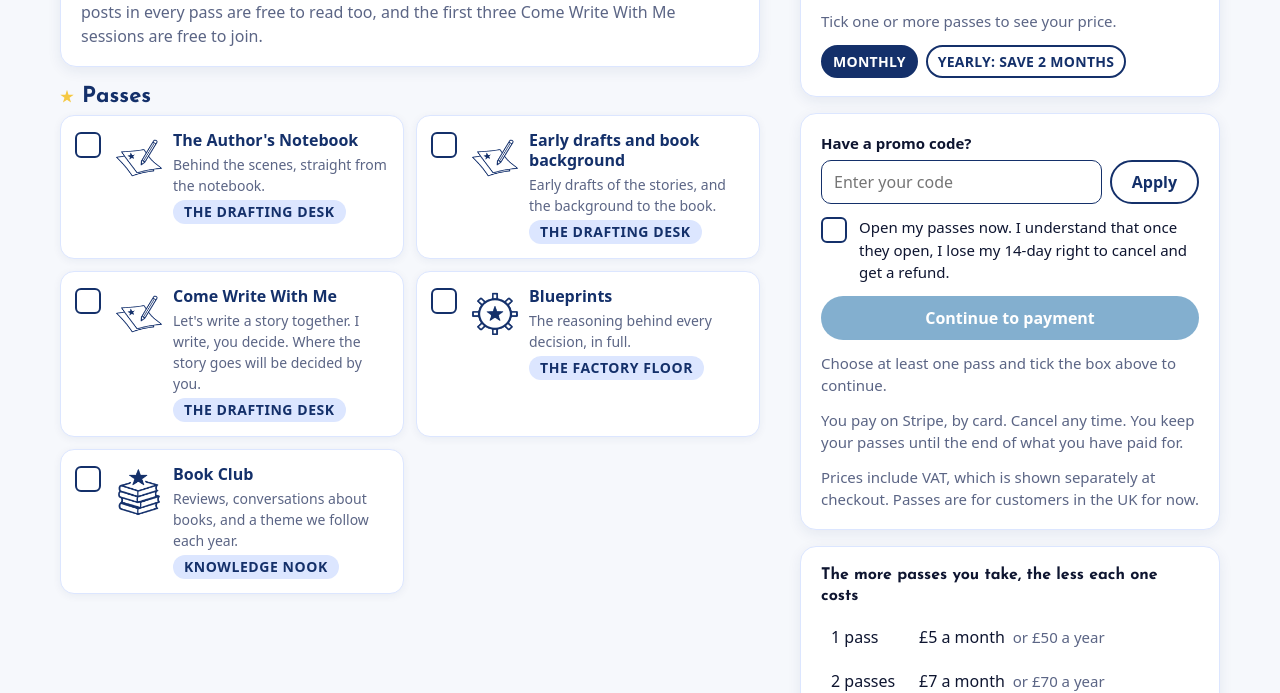
Test: the price box › shows plain prices, with no offer, when the launch offer is switched off
The image size is (1280, 693).
(page scrolled)
Click the checkbox labelled "Blueprints" at {"x": 588, "y": 354}, box [416,271,760,437]
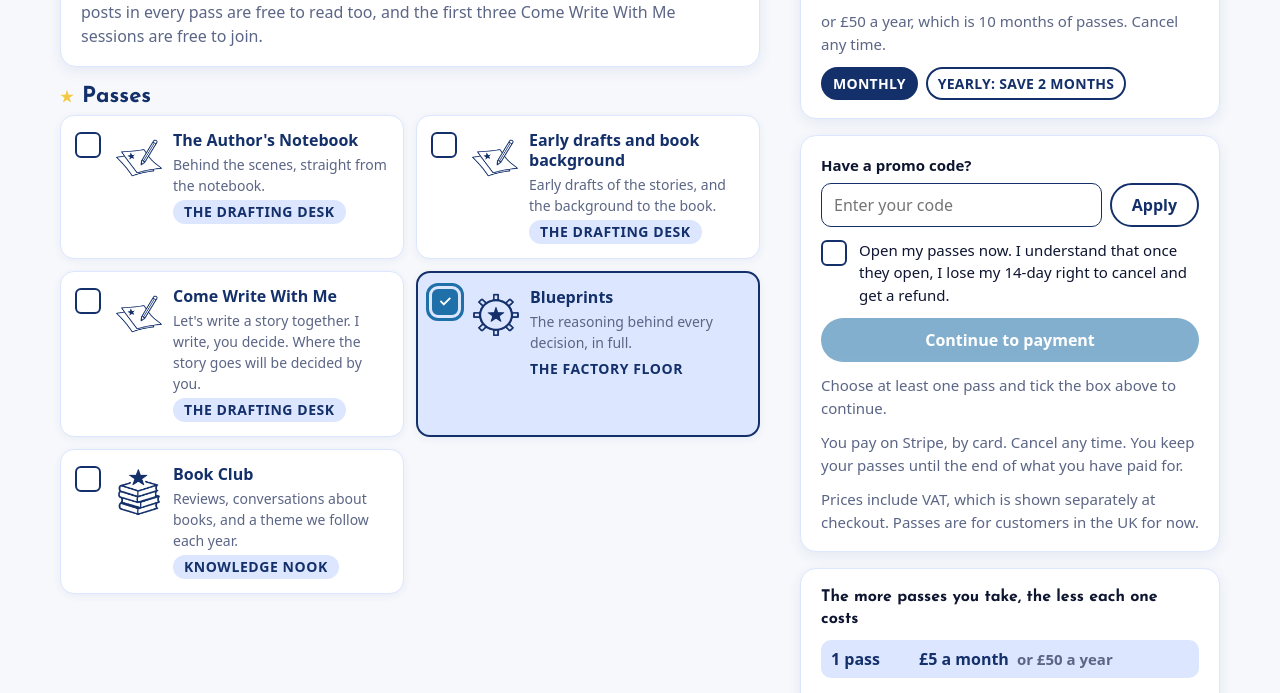
Click the checkbox labelled "Book Club" at {"x": 232, "y": 522}, box [60,449,404,594]
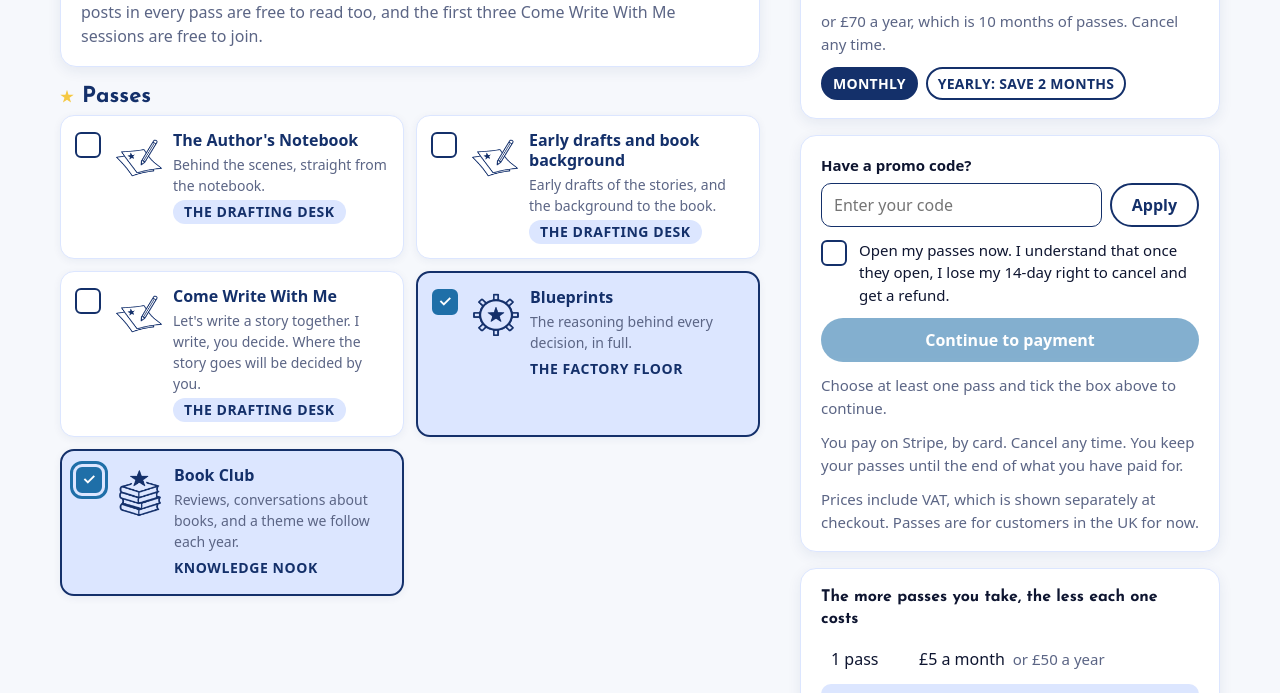
Now the text "or £70 a year, which is 10 months of passes. Cancel any time." is shown, box [821,10,1199,55]
